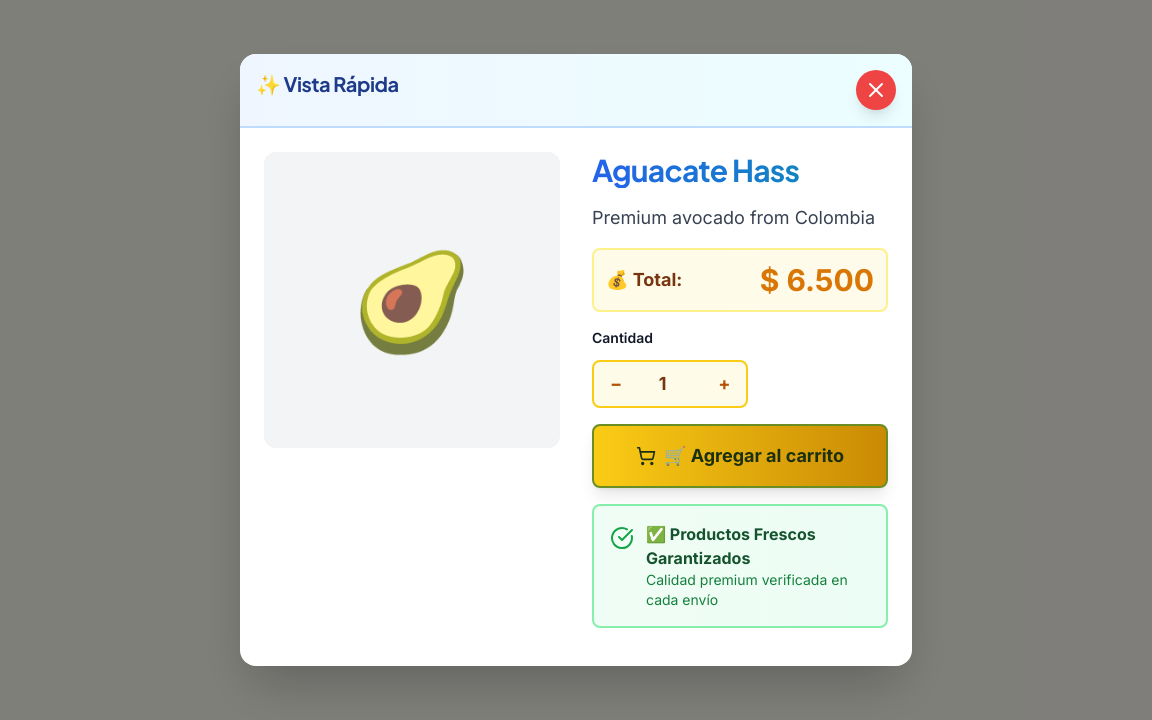
Test: 🛒 ProductQuickViewModal - Funcionalidad de Cantidad › ✅ Debe incrementar cantidad con botón +
Click the button "+": coordinates (724, 384) [702,362,746,406]
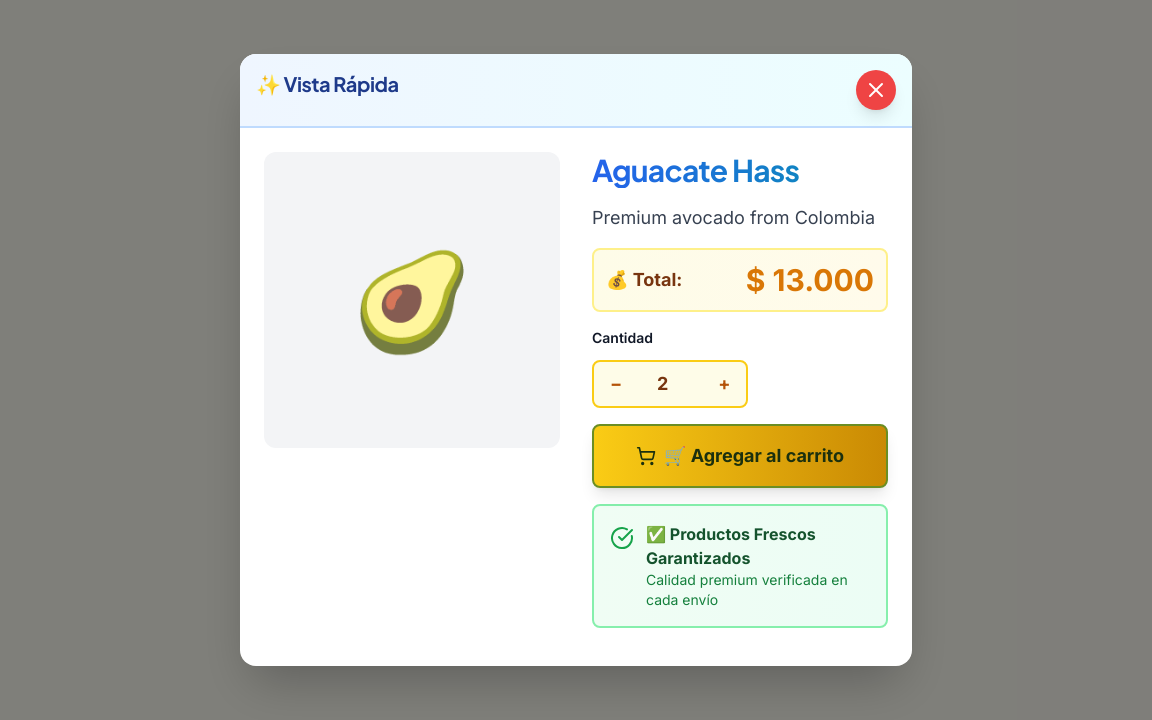
Expected: the number field showing "2" holds "2", [638,370,702,398]
